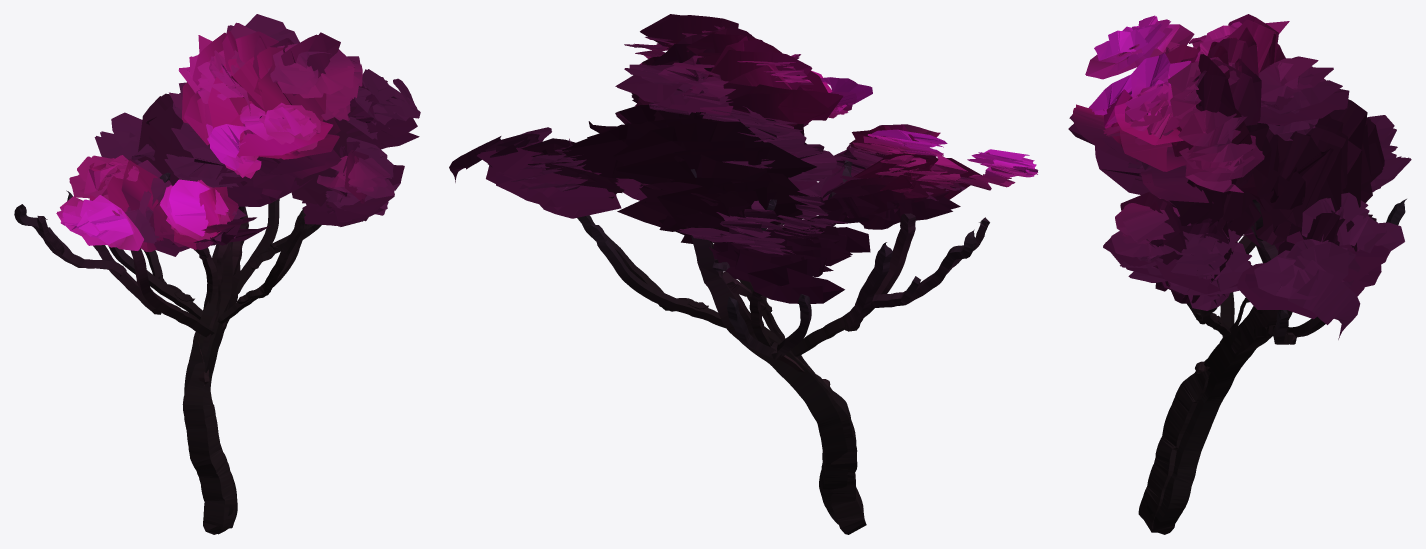
File: Island_World2_04_D.fbx
3 renders of one model, left to right at view 1: azimuth 30°, elevation 25°; view 2: azimuth 150°, elevation 25°; view 3: azimuth 270°, elevation 25°, orthographic. The views are drawn at different scales.
Visible parts, largest first — view 1: Leaves, Tree; view 2: Leaves, Tree; view 3: Leaves, Tree.
Part boxes in pixels (box(x1,y1,x2,y2)): Leaves: box(56, 14, 420, 256); Tree: box(14, 172, 321, 534); Leaves: box(449, 14, 1038, 303); Tree: box(577, 126, 989, 534); Leaves: box(1068, 14, 1411, 339); Tree: box(1138, 199, 1406, 534).
Bounding box in the file's own units: 1.31 × 1.31 × 0.7553.
